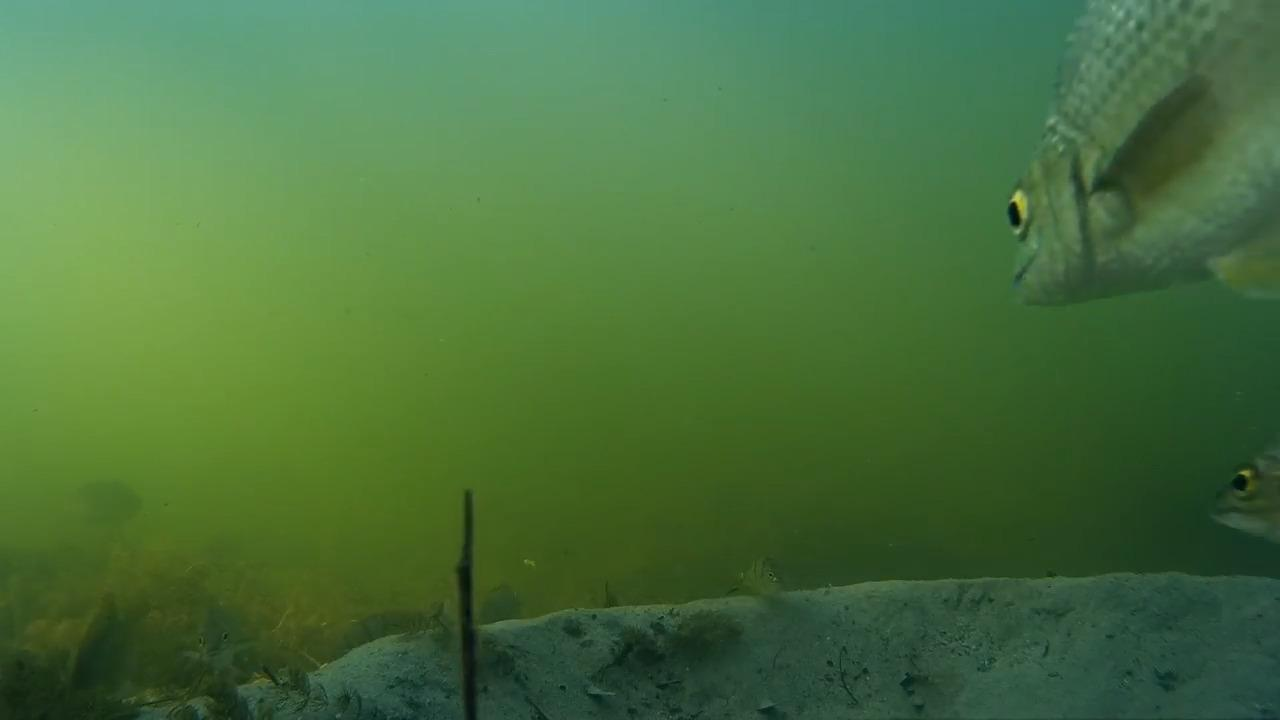Tilapia: (986, 38, 1236, 325), (1187, 424, 1280, 572)
